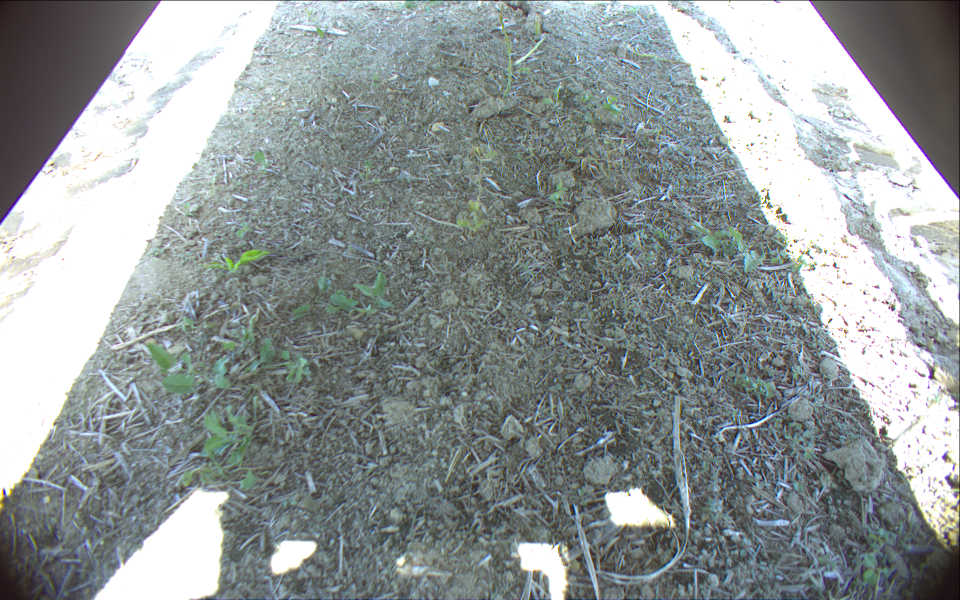aspa: (492, 10, 513, 98), (621, 43, 683, 61), (512, 33, 547, 64), (534, 14, 542, 34)
